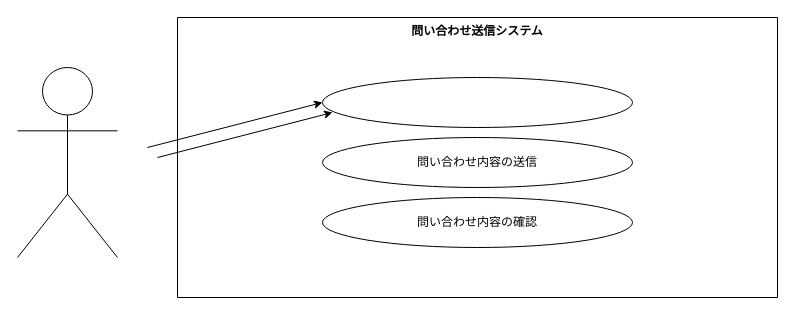
The diagram is 795 pixels wide and 315 high, and some of its shapes have lost their labels. The shapes that lost their labels are listed below. From the top down, each one's centre as x and y in pixels, then its label:
At [477,102]: "問い合わせ内容の記入".
At [67,162]: "購入者".
